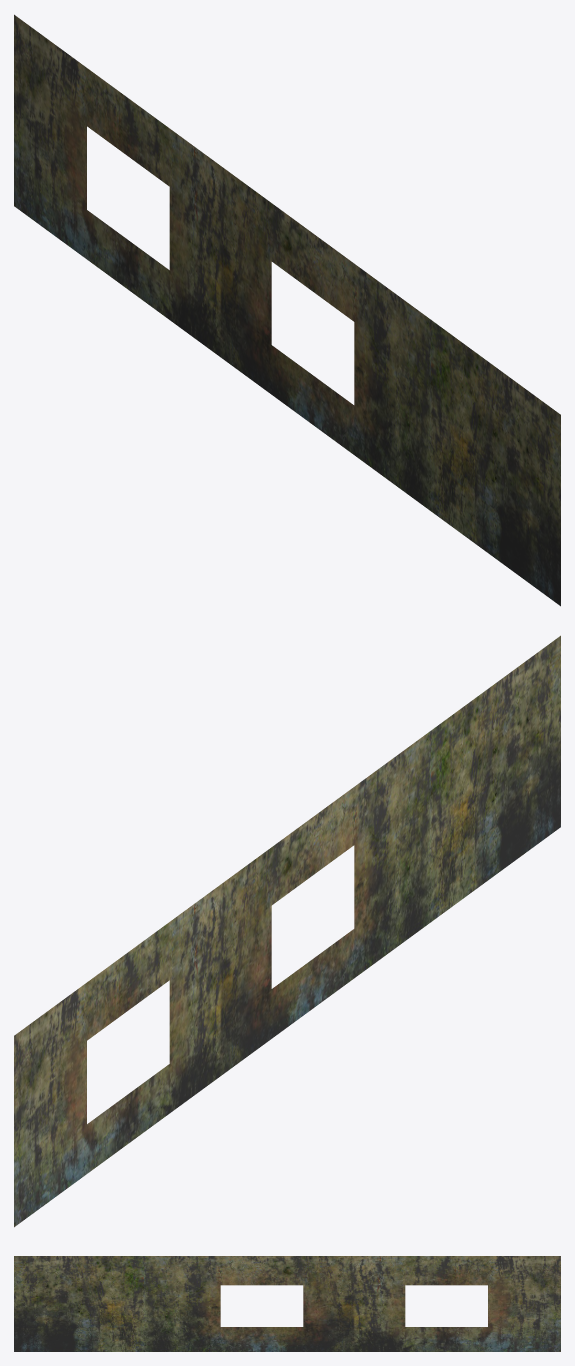
Rendered from Wall_04.FBX.
The picture shows the model from 3 angles, top to bottom: view 1: azimuth 30°, elevation 25°; view 2: azimuth 150°, elevation 25°; view 3: azimuth 270°, elevation 25°; orthographic projection. The views are drawn at different scales.
Visible parts, largest first — view 1: Wall_04; view 2: Wall_04; view 3: Wall_04.
Part boxes in pixels (x1=…): Wall_04: x1=14, y1=14, x2=560, y2=606; Wall_04: x1=14, y1=635, x2=560, y2=1227; Wall_04: x1=14, y1=1256, x2=560, y2=1351.
Size of the model in its own units: 0.0112 by 320 by 1655.
